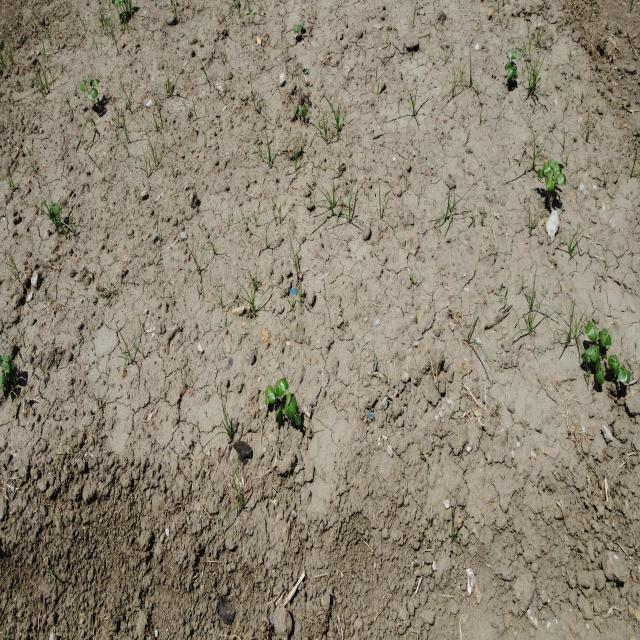seedling_s3: (585, 321, 597, 342), (276, 379, 289, 397), (287, 397, 297, 418), (607, 358, 620, 374), (1, 354, 14, 369), (554, 171, 565, 186), (588, 346, 598, 362), (601, 333, 612, 347), (285, 392, 291, 416), (546, 173, 554, 191), (618, 365, 627, 381), (549, 159, 559, 172), (542, 161, 551, 175), (88, 88, 98, 100), (269, 385, 275, 404), (597, 368, 604, 384), (277, 406, 284, 421), (599, 328, 609, 338), (1, 361, 10, 372), (581, 352, 590, 363), (592, 346, 599, 358), (53, 203, 60, 214), (507, 68, 514, 79), (537, 169, 544, 180), (265, 387, 269, 406), (625, 368, 630, 383), (509, 51, 518, 59), (611, 355, 620, 363), (596, 362, 601, 376), (80, 81, 85, 93), (301, 108, 307, 117), (294, 26, 300, 34), (505, 62, 511, 70), (295, 416, 299, 426), (294, 107, 299, 115), (85, 79, 92, 84), (93, 80, 98, 86), (299, 21, 304, 26)
